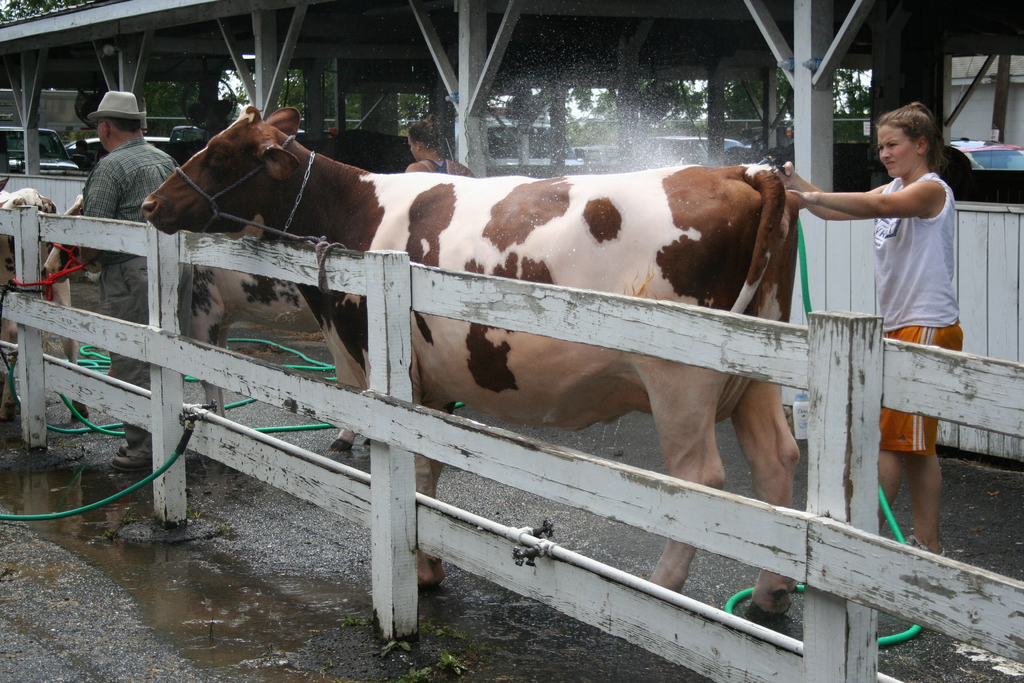Person: (773, 100, 963, 556), (80, 90, 195, 471), (403, 115, 476, 177)
